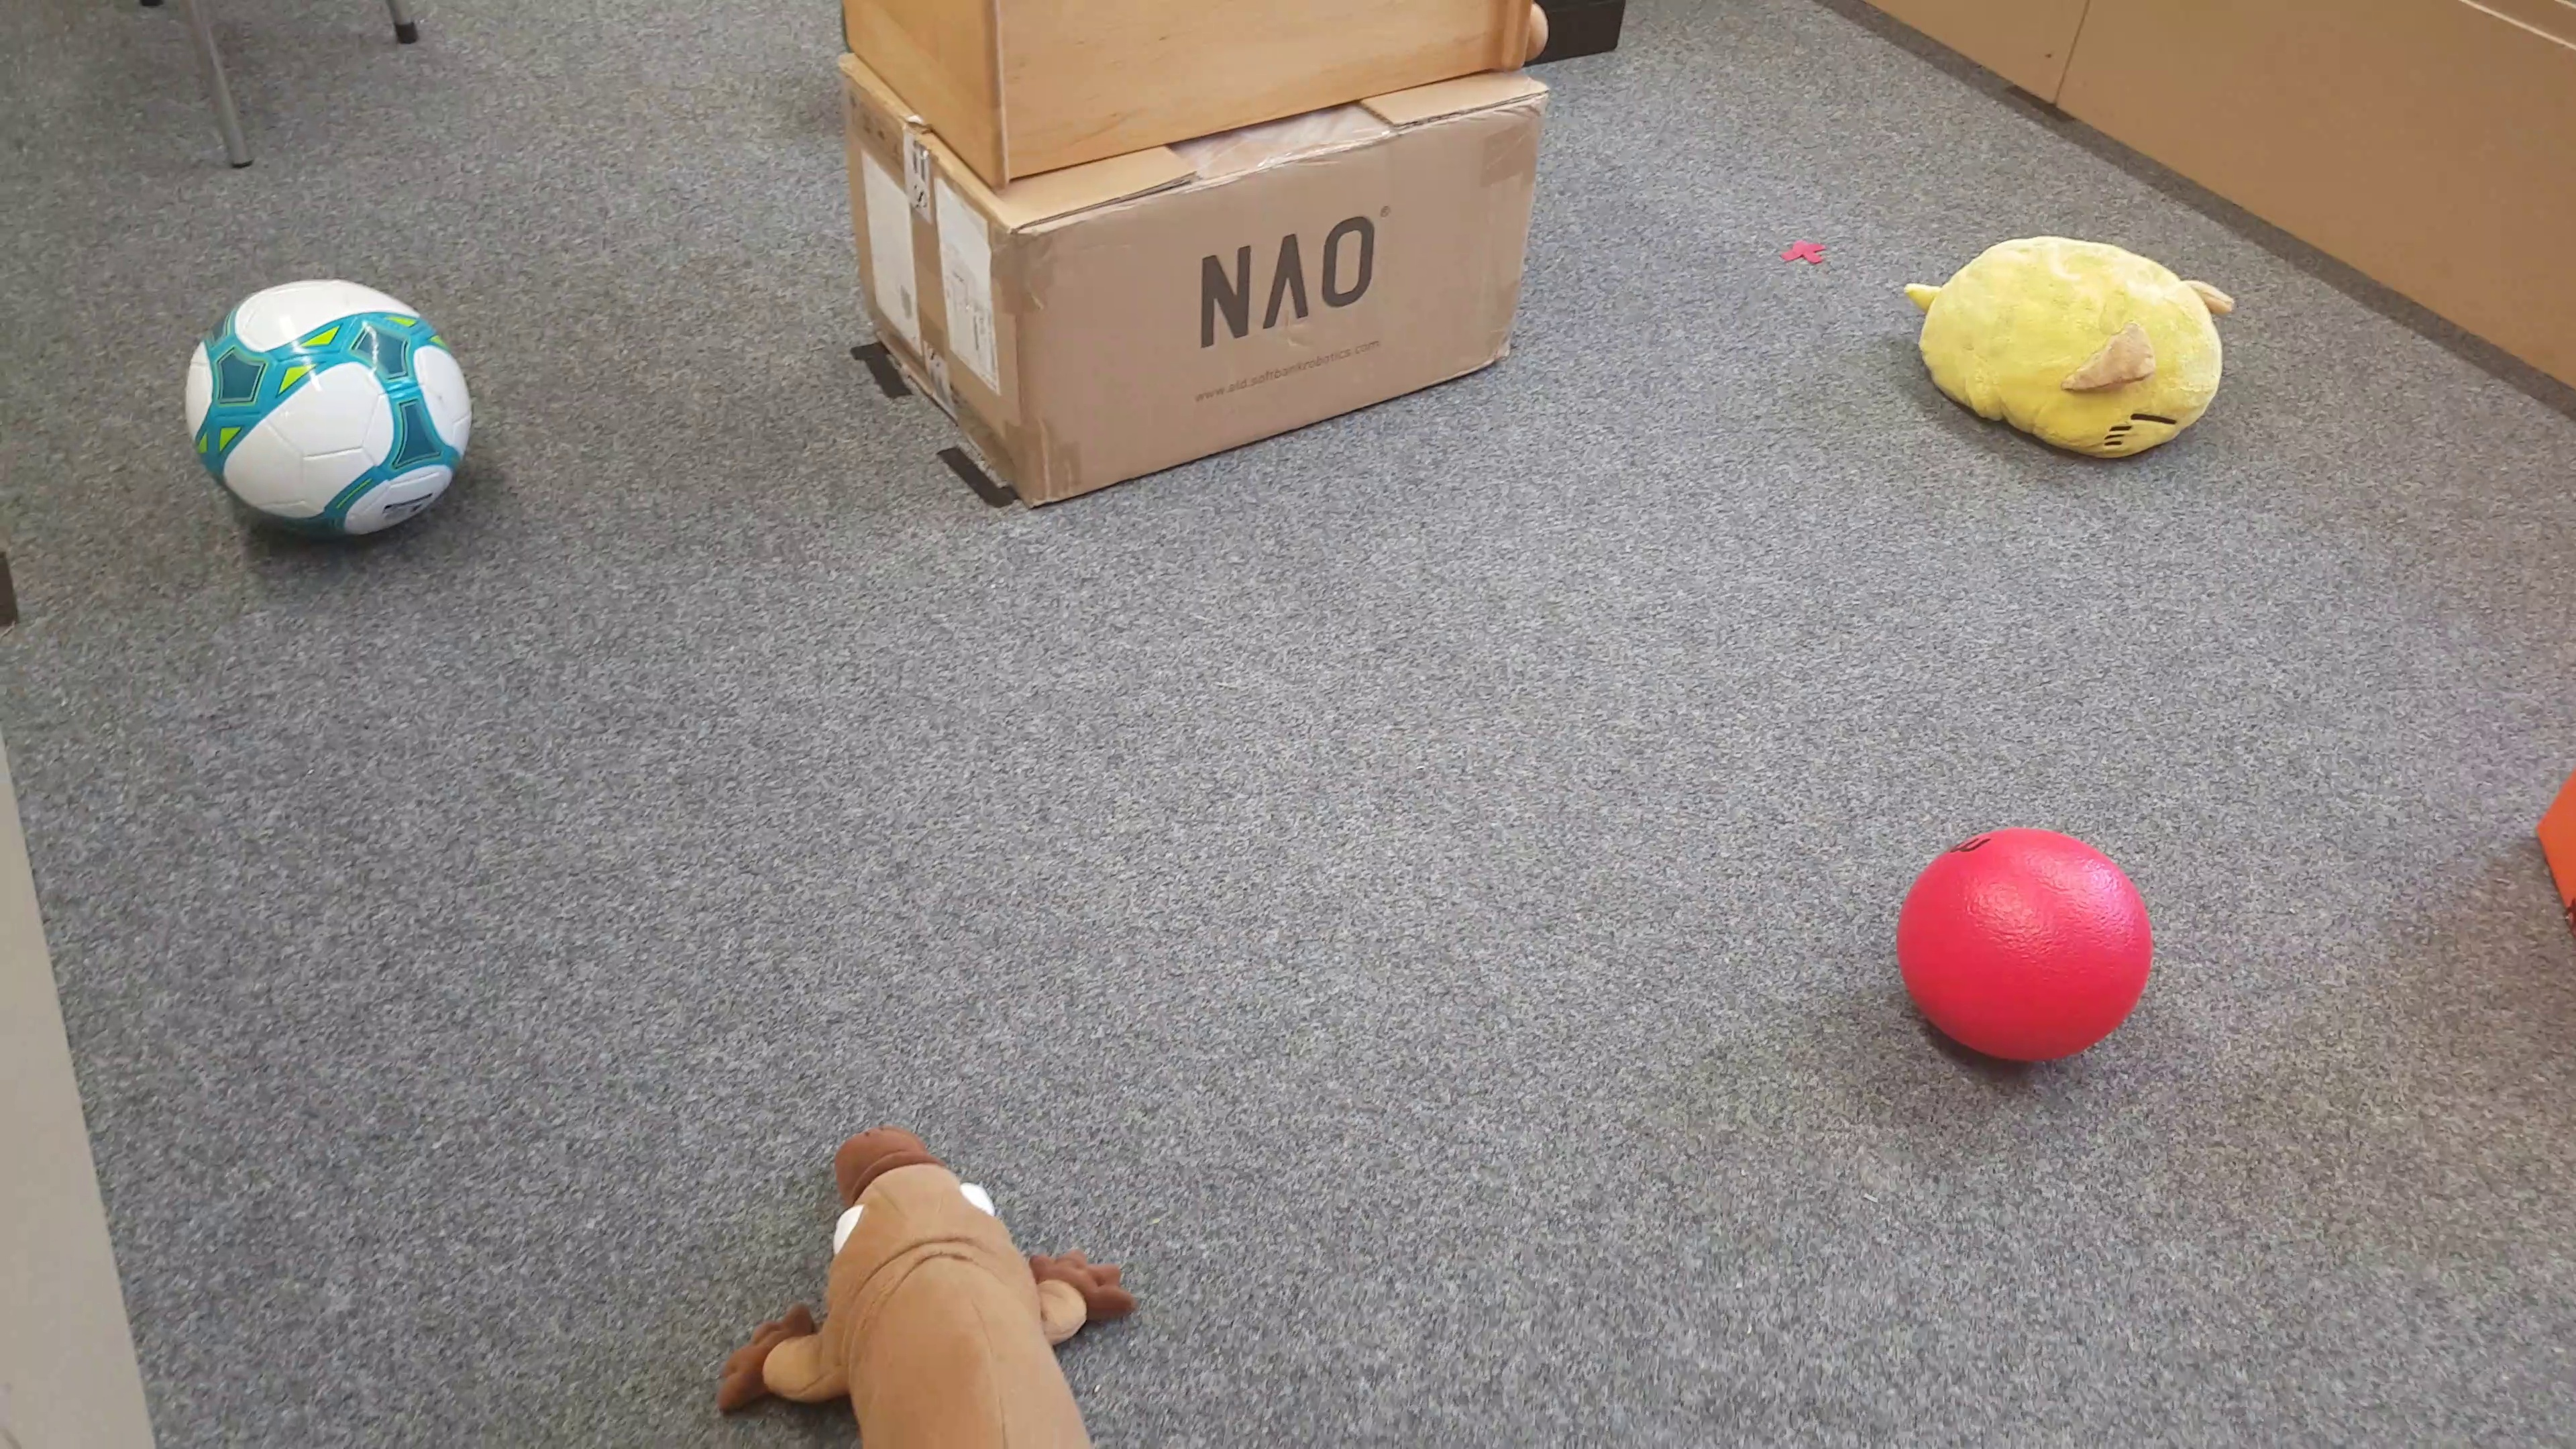grasp: (704, 1132, 1145, 1449), (1897, 237, 2231, 469)
kick: (186, 276, 478, 543), (1897, 823, 2151, 1079)
